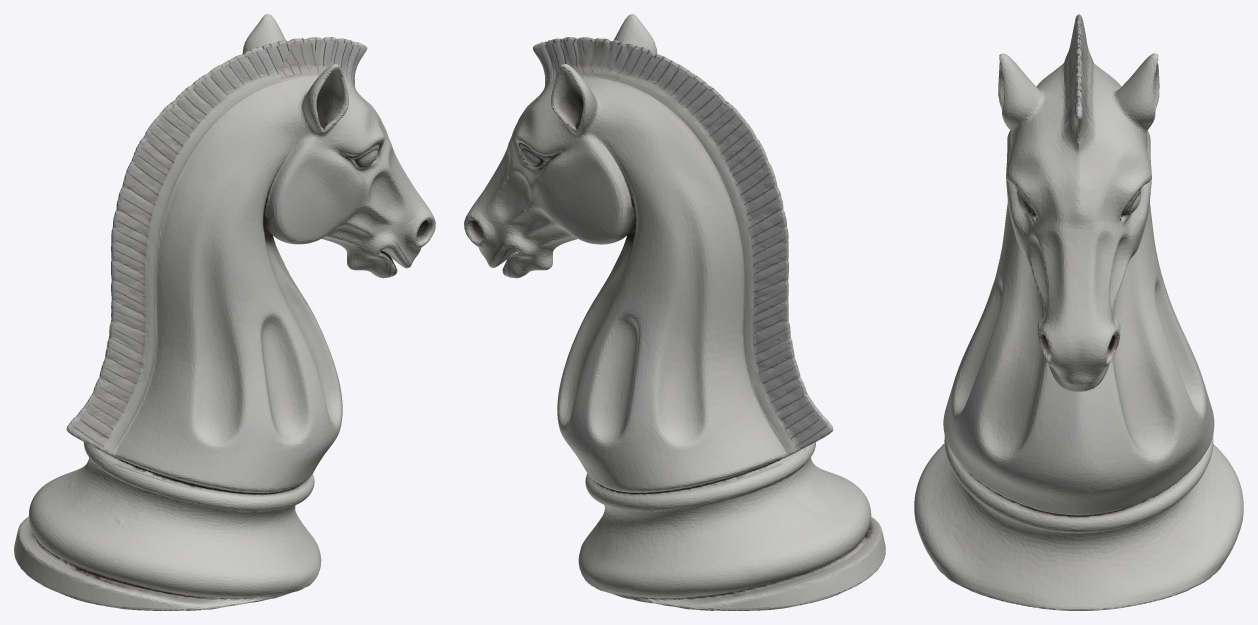
The picture shows the model from 3 angles, left to right: view 1: azimuth 30°, elevation 25°; view 2: azimuth 150°, elevation 25°; view 3: azimuth 270°, elevation 25°; orthographic projection. The views are drawn at different scales.
Visible parts, largest first — view 1: material; view 2: material; view 3: material.
Boxes of the visible parts, x1,y1,x2,y2 form: material: (14,14,435,610); material: (464,14,885,610); material: (914,14,1243,610).
Size of the model in its own units: 0.8049 by 0.9726 by 0.5194.
Materials: 1 (1 with a texture image).
